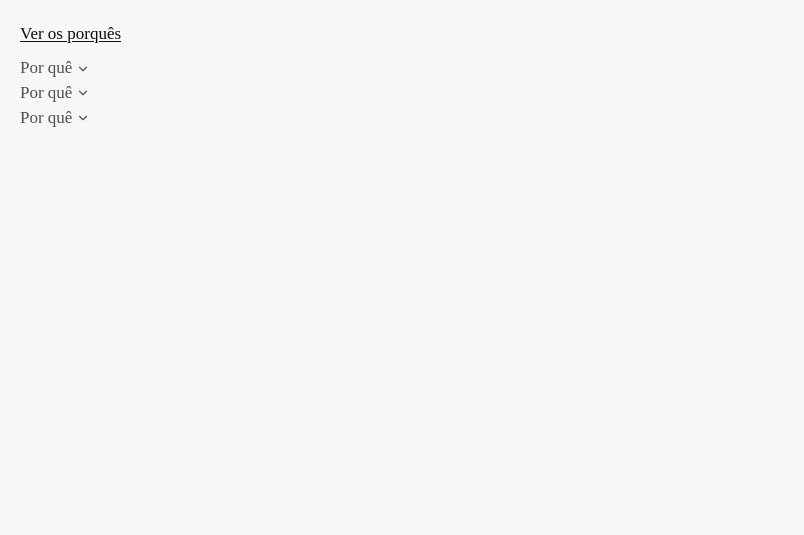
Scenario: PorQue › com 'Ver os porquês' ligado, o botão de um bloco o fecha e abre de novo; aria-controls só quando aberto
Click the button "Ver os porquês" at (70, 34), box [12, 12, 129, 56]
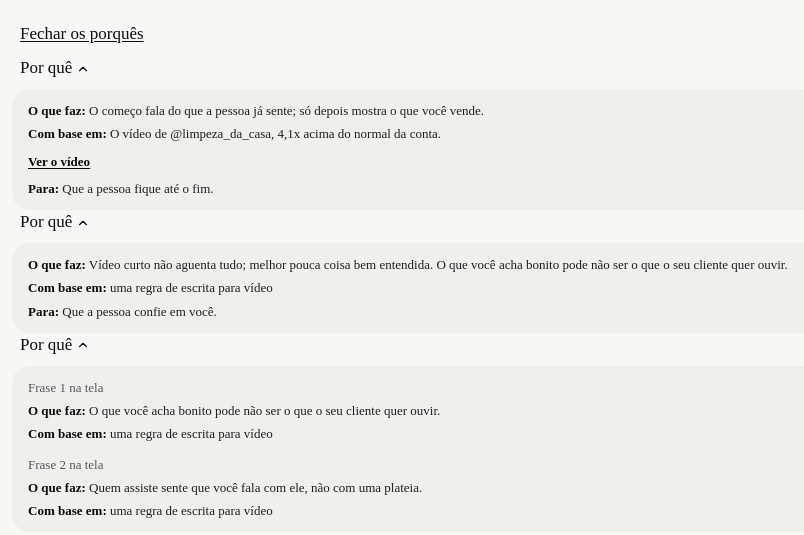
Expected: the button with aria-label "Por quê: Abertura" has attribute aria-controls="pq-gancho"
Click the button with aria-label "Por quê: Abertura" at (55, 68), box [12, 46, 98, 90]
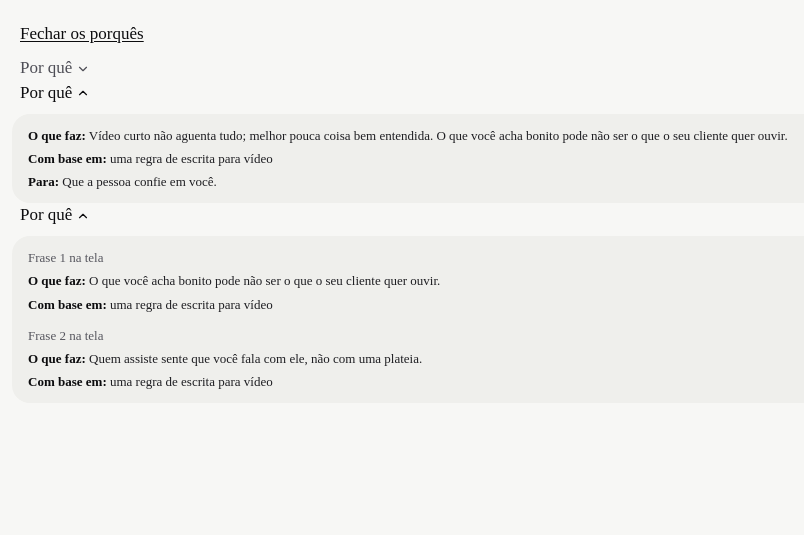
Expected: the button with aria-label "Por quê: Abertura" is collapsed
Expected: the text "O que faz:" is shown 3 times, [28, 128, 86, 143]; [28, 273, 86, 288]; [28, 351, 86, 366]
Click the button with aria-label "Por quê: Abertura" at (55, 68), box [12, 46, 98, 90]
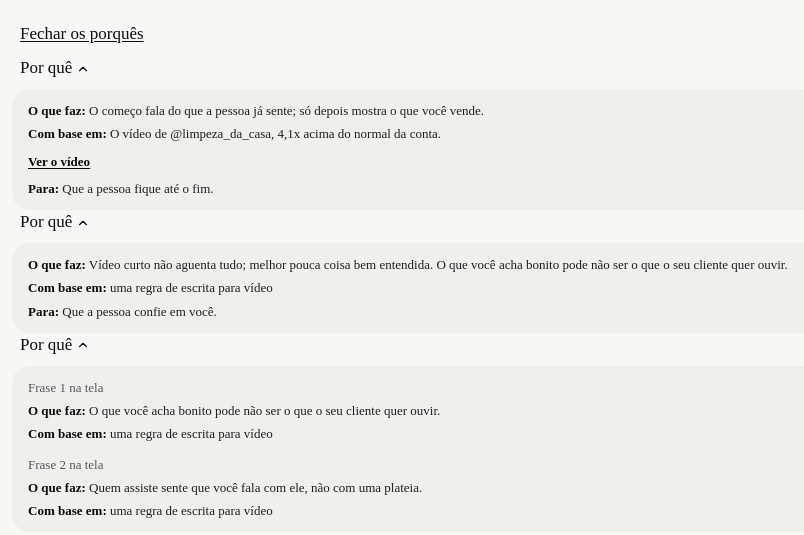
Expected: the button with aria-label "Por quê: Abertura" is expanded, [12, 46, 98, 90]
Click the button "Fechar os porquês" at (82, 34), box [12, 12, 152, 56]
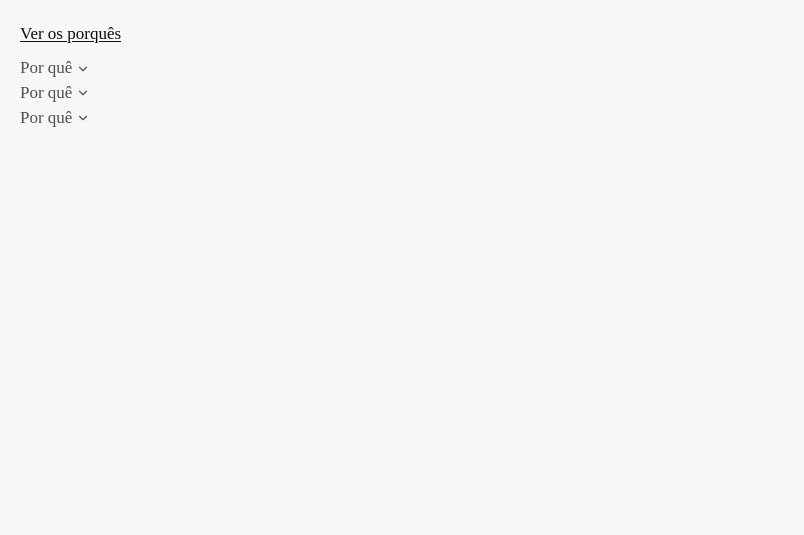
Expected: the text "O que faz:" is gone
